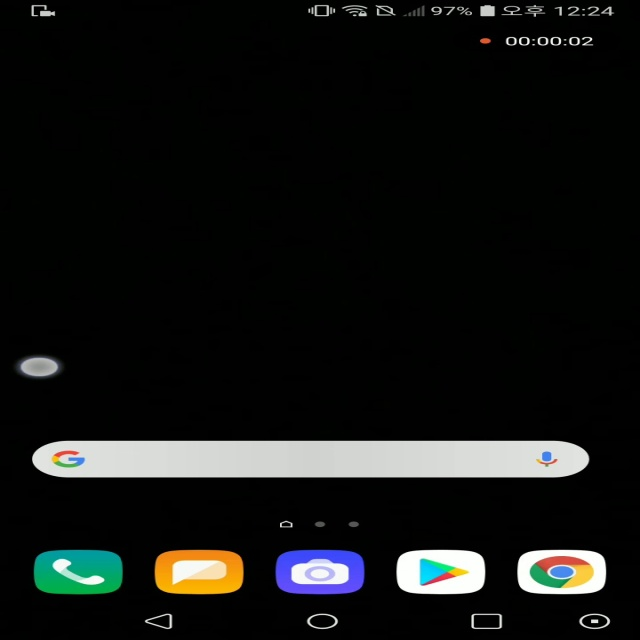Cursor: (17, 356, 62, 378)
